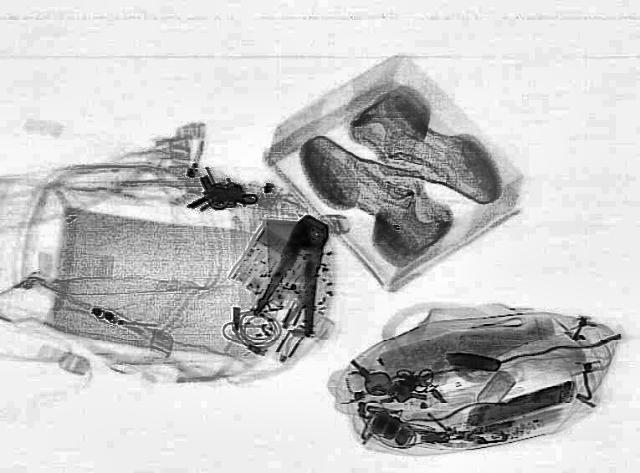Pliers: (246, 210, 352, 335)
